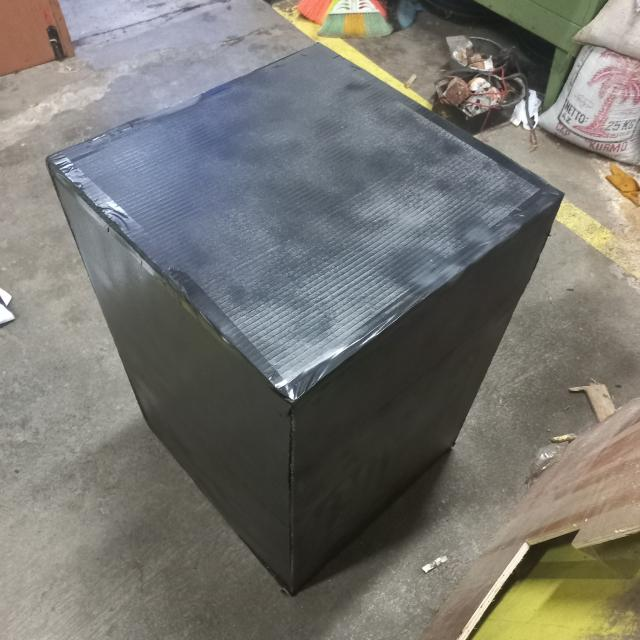obstacle: (41, 39, 565, 602)
